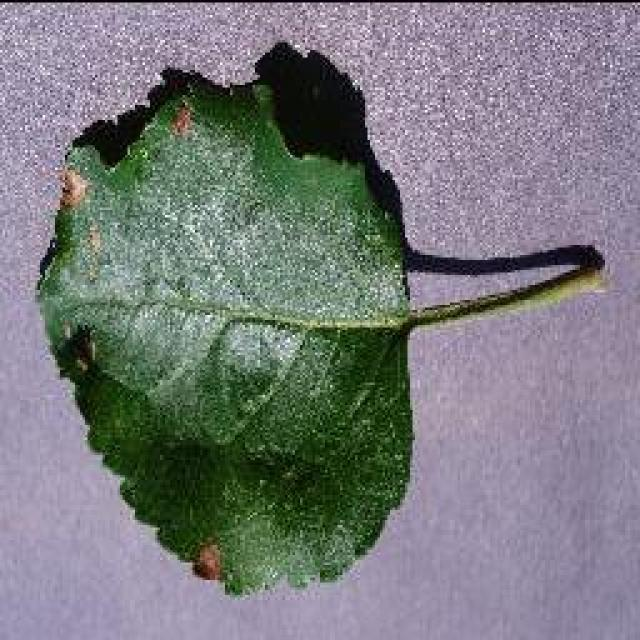Black_rot: (32, 40, 608, 598)
